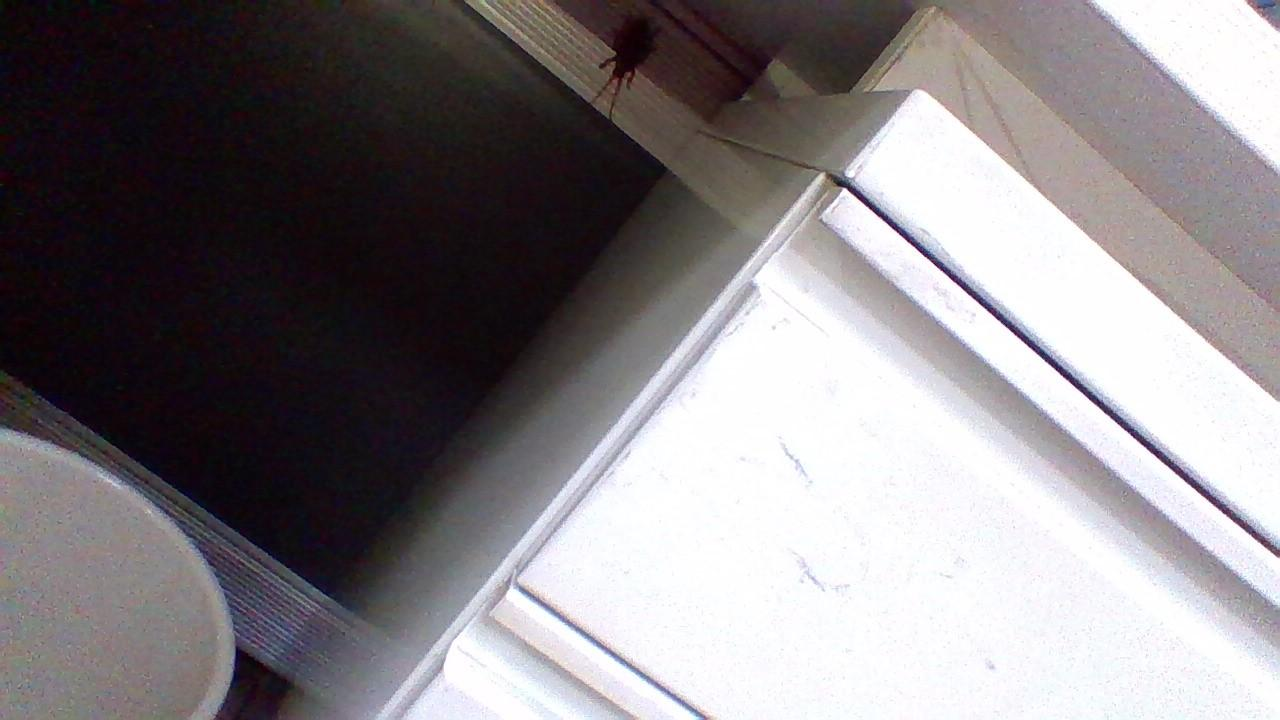cockroach: (597, 0, 669, 148)
